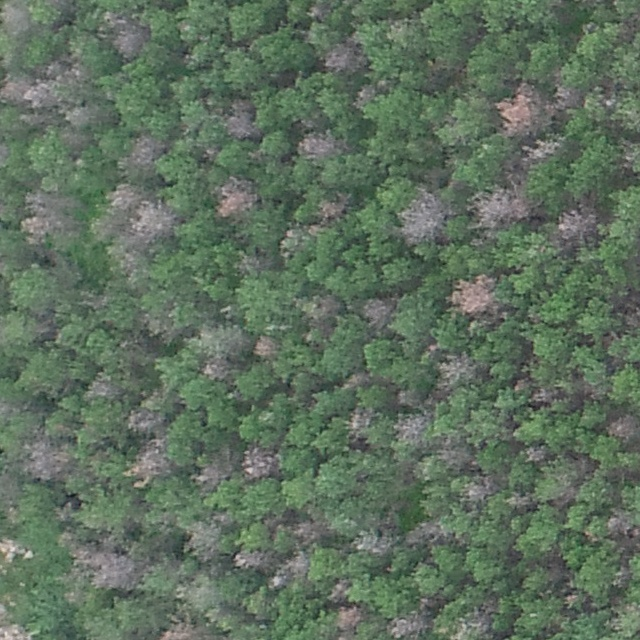unhealthy: (74, 544, 141, 591), (395, 188, 448, 247), (20, 187, 80, 236), (494, 81, 545, 138), (22, 432, 72, 483), (469, 187, 529, 228), (100, 10, 148, 59), (126, 199, 178, 244), (448, 274, 499, 317), (213, 175, 258, 219), (129, 438, 173, 482), (183, 515, 225, 560), (553, 203, 598, 245), (0, 75, 54, 109), (295, 128, 348, 159), (193, 452, 234, 492), (433, 352, 478, 387), (39, 52, 88, 83), (125, 131, 166, 168), (301, 292, 342, 328), (224, 99, 260, 140), (456, 602, 496, 638), (320, 40, 363, 73), (240, 444, 279, 480), (387, 609, 431, 639), (517, 137, 561, 166), (360, 295, 396, 329), (273, 551, 310, 584), (125, 405, 166, 434), (393, 412, 430, 444), (437, 439, 473, 471), (405, 518, 446, 546), (107, 181, 144, 211), (351, 531, 393, 557), (0, 1, 30, 37), (85, 373, 122, 402), (315, 193, 352, 222), (289, 516, 327, 544), (156, 621, 215, 639), (89, 212, 123, 243), (234, 547, 274, 572), (605, 411, 639, 440), (21, 213, 53, 242), (346, 405, 377, 434), (606, 509, 637, 538), (199, 356, 232, 383), (353, 80, 387, 106), (552, 84, 582, 111), (461, 478, 494, 502), (64, 105, 97, 129), (335, 604, 363, 631), (18, 110, 55, 130), (327, 577, 353, 603), (252, 333, 279, 358), (0, 623, 32, 640), (0, 394, 17, 424), (528, 387, 556, 405), (343, 370, 372, 386), (524, 444, 547, 463), (0, 139, 10, 167), (333, 628, 358, 639)
